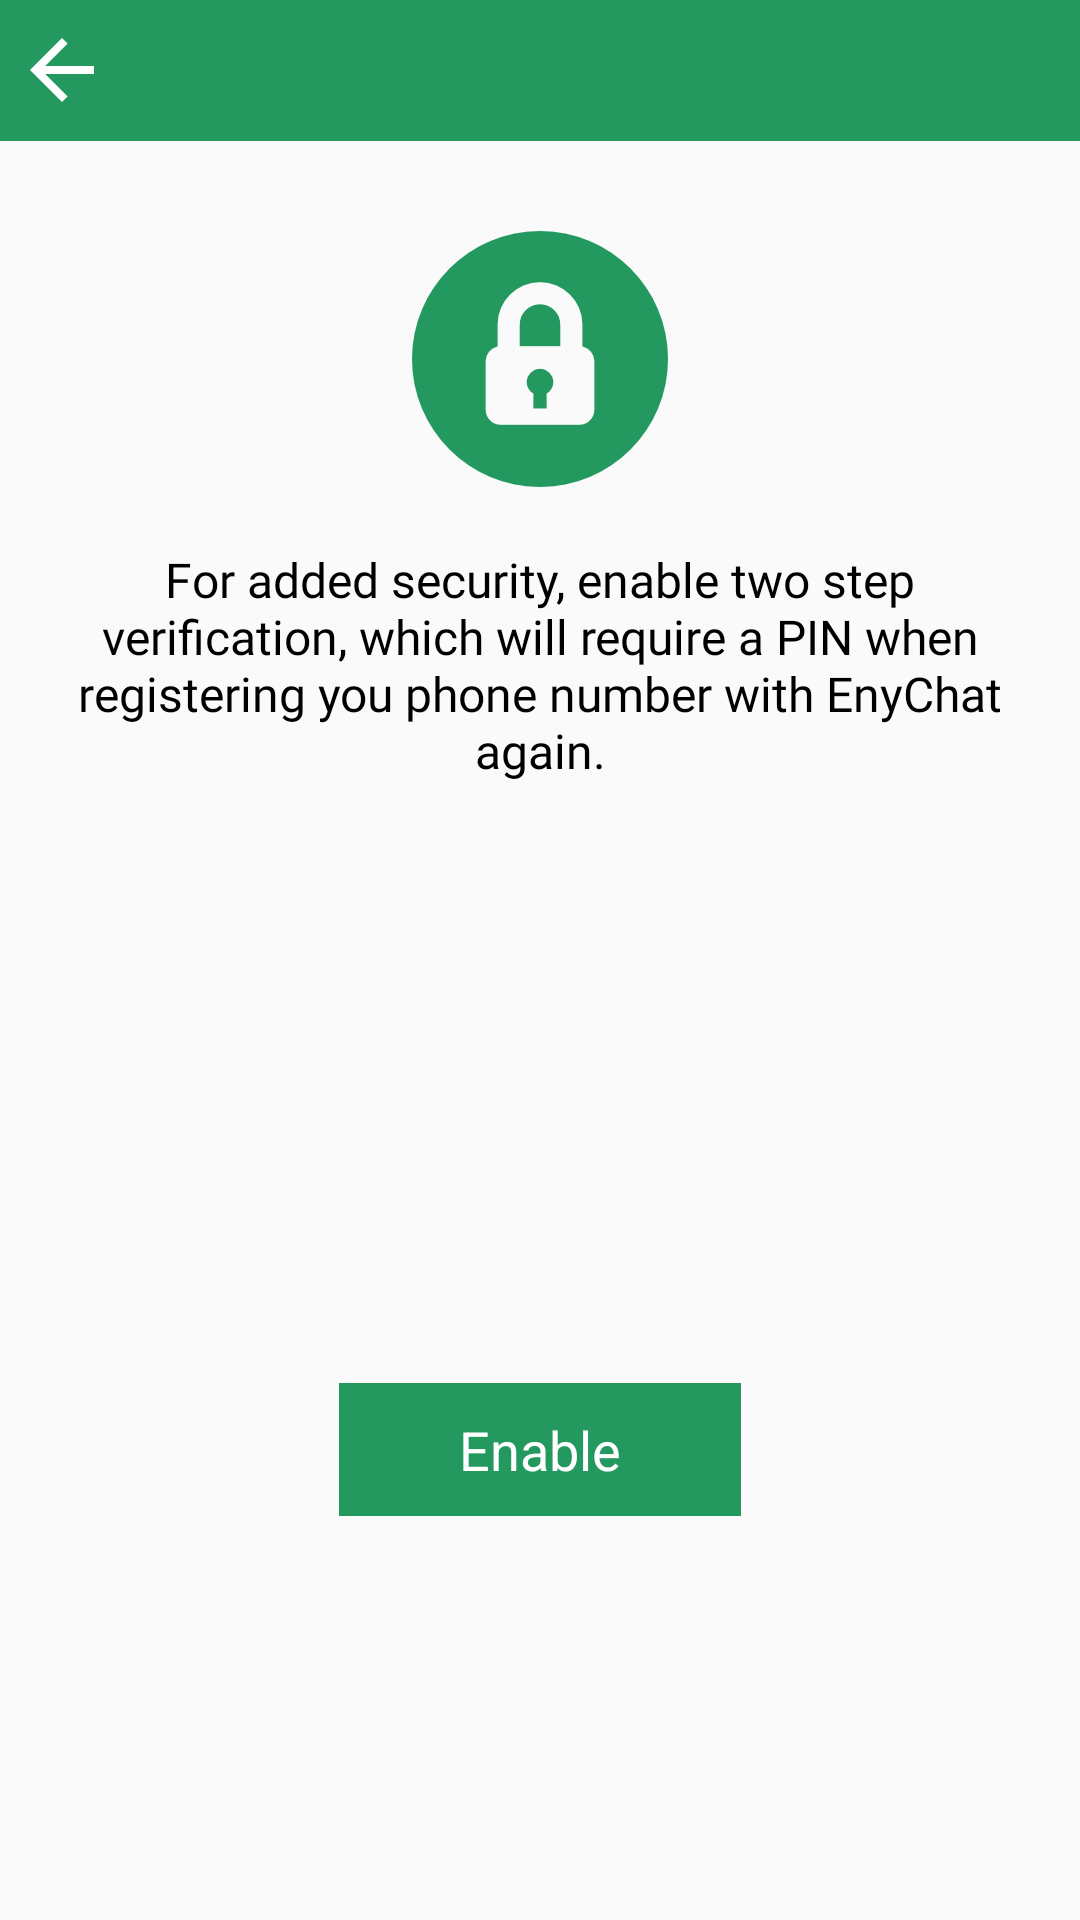

Icons on this 1080 x 1920 Android screen, each with the point to tap as point (x, y):
back arrow: point (62, 70)
lock: point (540, 359)
